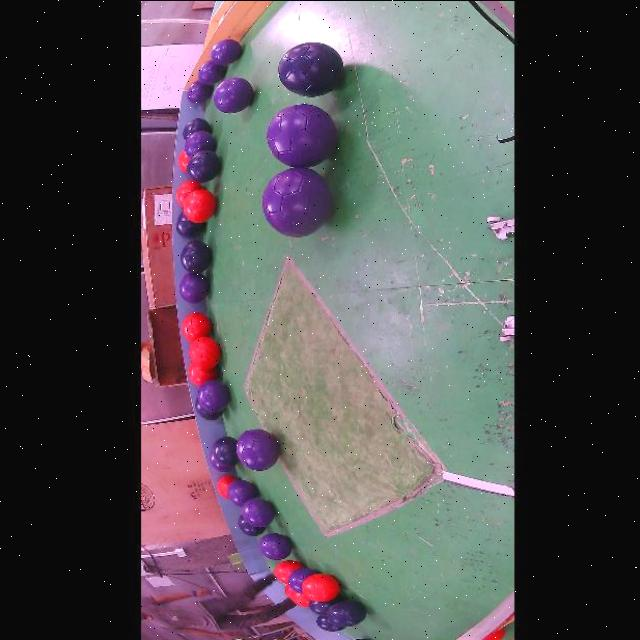B: (278, 42, 343, 96), (186, 149, 219, 182), (326, 600, 365, 627), (179, 240, 210, 273), (212, 436, 239, 466), (175, 212, 205, 238), (309, 595, 343, 616), (236, 514, 265, 536), (182, 117, 210, 139), (316, 616, 344, 631)
P: (262, 166, 332, 236), (266, 104, 336, 166), (235, 429, 279, 470), (213, 77, 253, 113), (196, 379, 229, 412), (242, 497, 274, 527), (258, 532, 291, 560), (179, 273, 209, 303), (209, 38, 242, 64), (226, 479, 256, 506), (183, 130, 214, 156), (287, 568, 318, 594), (197, 60, 226, 84), (186, 81, 212, 103)
R: (183, 188, 216, 222), (301, 573, 340, 601), (188, 336, 219, 370), (181, 312, 210, 342), (187, 362, 217, 386), (175, 179, 201, 206), (274, 560, 303, 584), (217, 475, 238, 499), (291, 591, 309, 608), (177, 149, 188, 171)
